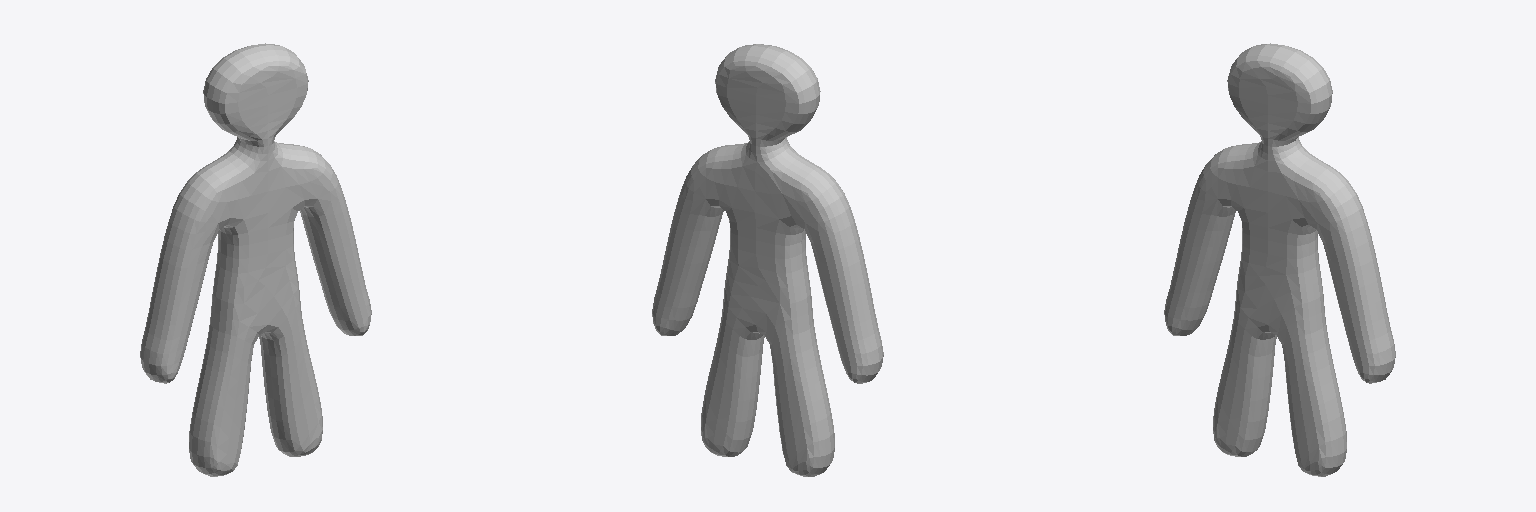
The model's file is dude.obj.
3 renders of one model, left to right at view 1: azimuth 30°, elevation 25°; view 2: azimuth 150°, elevation 25°; view 3: azimuth 330°, elevation 25°, orthographic.
Parts seen in each view (by area): view 1: dude; view 2: dude; view 3: dude.
Part boxes in pixels (left/top/right/bottom): dude: left=140, top=43, right=371, bottom=476; dude: left=652, top=44, right=883, bottom=476; dude: left=1164, top=43, right=1395, bottom=476.
Size of the model in its own units: 6.4 by 11.36 by 1.22.